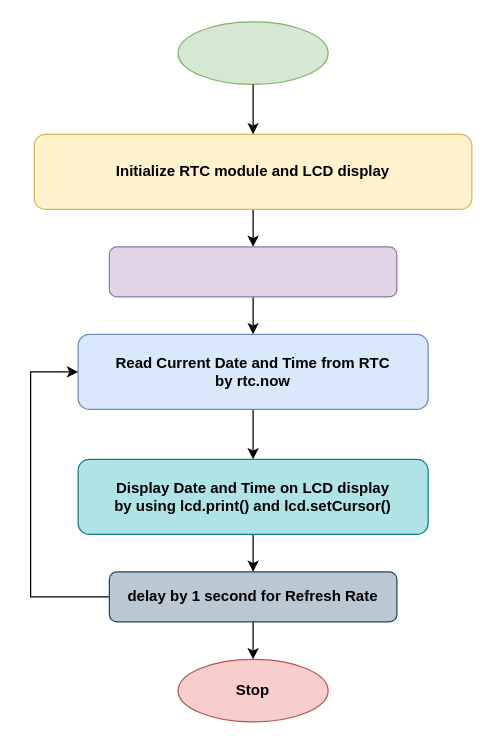
This 494x744 diagram has some shape labels left out. Here are the shapes that lost their labels. From the top down, the centre of each, then its label:
At pixel 252 52: "Start".
At pixel 252 271: "Set Date and Time using rtc.adjust()".
